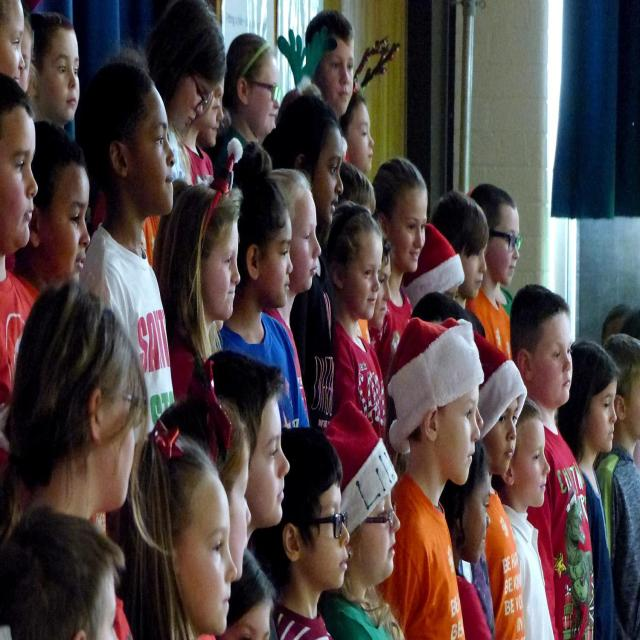body: (1, 286, 150, 554), (78, 55, 177, 442), (376, 311, 487, 639), (257, 89, 347, 435), (509, 282, 595, 640), (412, 287, 492, 640), (217, 138, 312, 431), (147, 351, 255, 586), (118, 429, 238, 640), (246, 428, 352, 639), (151, 177, 245, 405), (317, 401, 407, 639), (191, 349, 292, 553), (554, 338, 622, 640), (0, 72, 46, 494), (473, 323, 526, 640), (0, 508, 127, 640), (323, 199, 388, 449), (142, 1, 226, 188), (264, 165, 322, 428), (10, 118, 94, 295), (498, 394, 556, 640), (595, 333, 640, 640), (371, 157, 429, 395), (440, 433, 494, 640), (214, 29, 284, 181), (466, 181, 523, 360), (429, 196, 490, 342), (26, 9, 81, 129), (210, 541, 275, 640), (401, 221, 466, 317), (304, 9, 356, 124), (189, 57, 228, 196), (0, 0, 42, 101), (338, 86, 378, 176), (326, 161, 379, 221), (366, 231, 393, 332), (600, 300, 640, 336)
